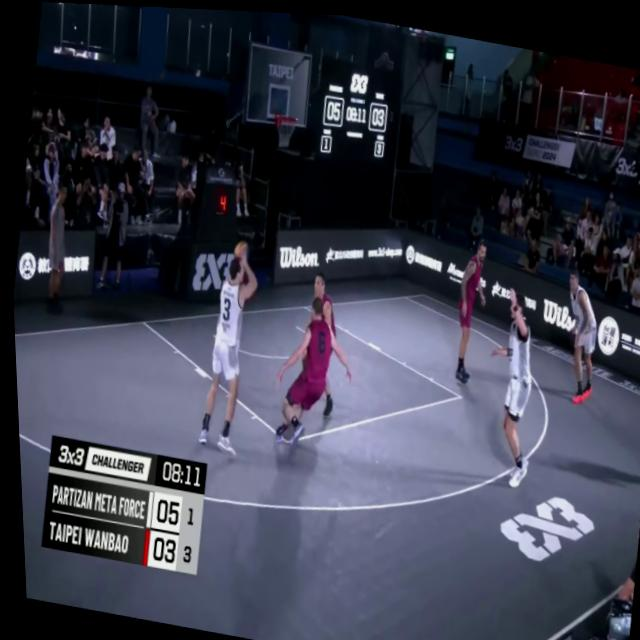ball: (228, 233, 250, 264)
hoop: (267, 107, 301, 152)
player: (186, 224, 269, 458), (467, 273, 555, 491), (260, 286, 362, 451), (274, 259, 353, 429), (547, 260, 609, 403), (442, 231, 496, 390)
